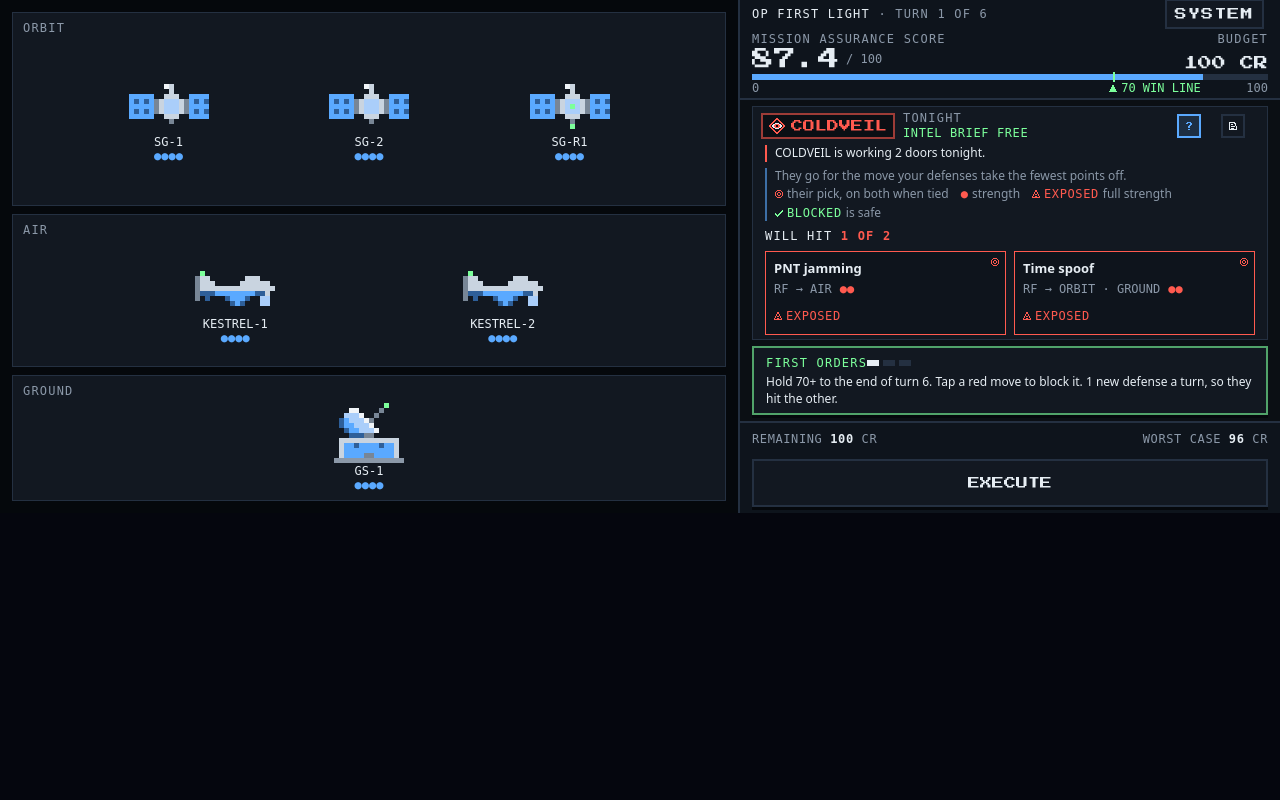
the intel cards (v1.2 R3) › names no event under the intel brief when every slot this turn is a draw
Expected: the element named "Tonight" is shown, x1=752 y1=106 x2=1268 y2=340
Click the button "COLDVEIL". click: (828, 126)
box: x1=761 y1=104 x2=895 y2=148
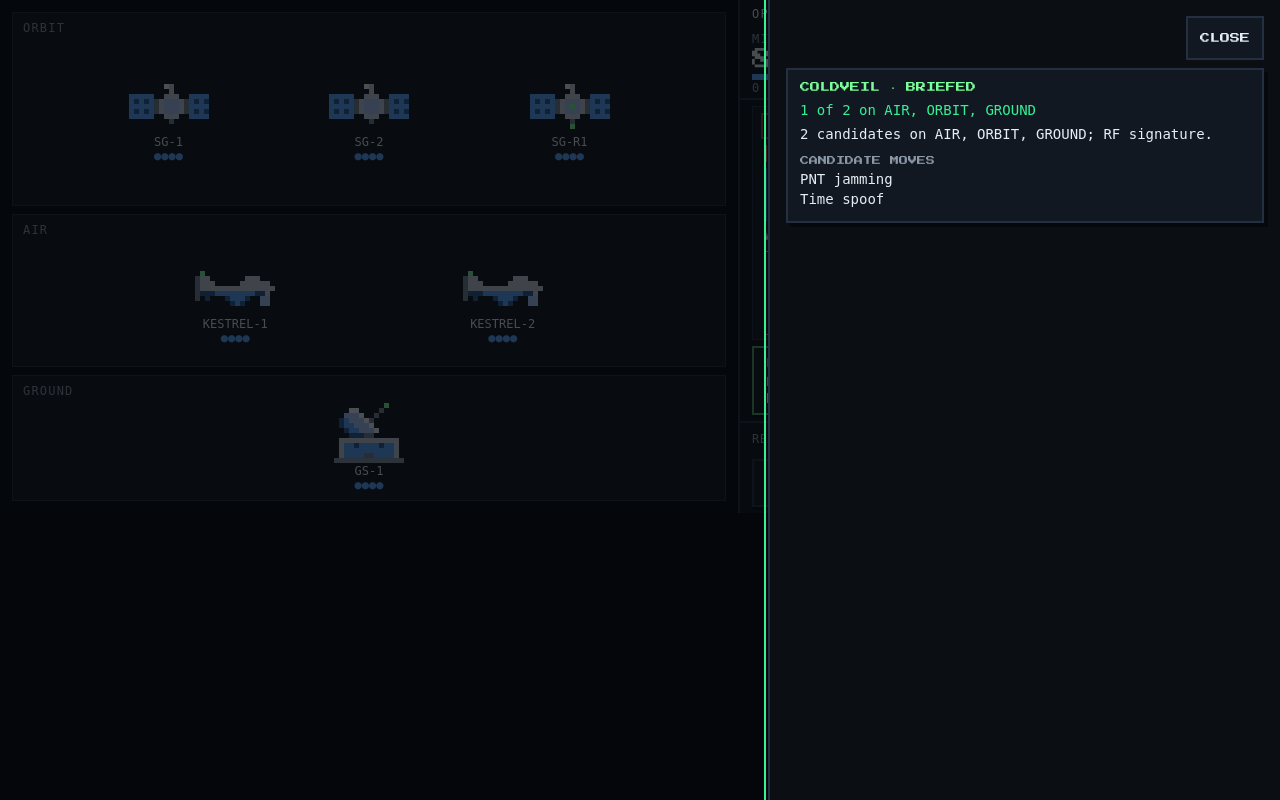
Now the element that starts with "CLOSE" is shown, box x1=770 y1=0 x2=1279 y2=239
Now the element that starts with "CLOSE" shows "BRIEFED", box x1=906 y1=82 x2=976 y2=92
